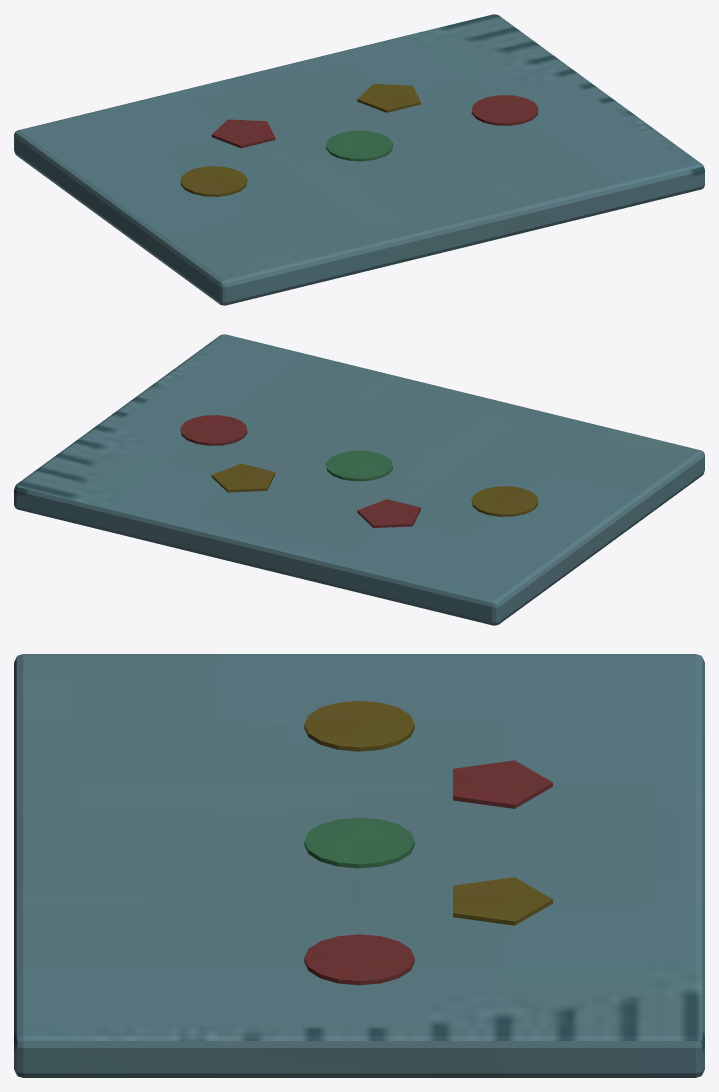
File: TY46_StickerBook.glb
The picture shows the model from 3 angles, top to bottom: view 1: azimuth 30°, elevation 25°; view 2: azimuth 150°, elevation 25°; view 3: azimuth 270°, elevation 25°; orthographic projection. The views are drawn at different scales.
Parts seen in each view (by area): view 1: TY46_StickerBook; view 2: TY46_StickerBook; view 3: TY46_StickerBook.
Boxes of the visible parts, bbox=[...] form: TY46_StickerBook: bbox=[14, 14, 704, 305]; TY46_StickerBook: bbox=[14, 334, 704, 625]; TY46_StickerBook: bbox=[14, 654, 704, 1077].
Size of the model in its own units: 0.2 by 0.011 by 0.15.
4 materials, 4 textured.
